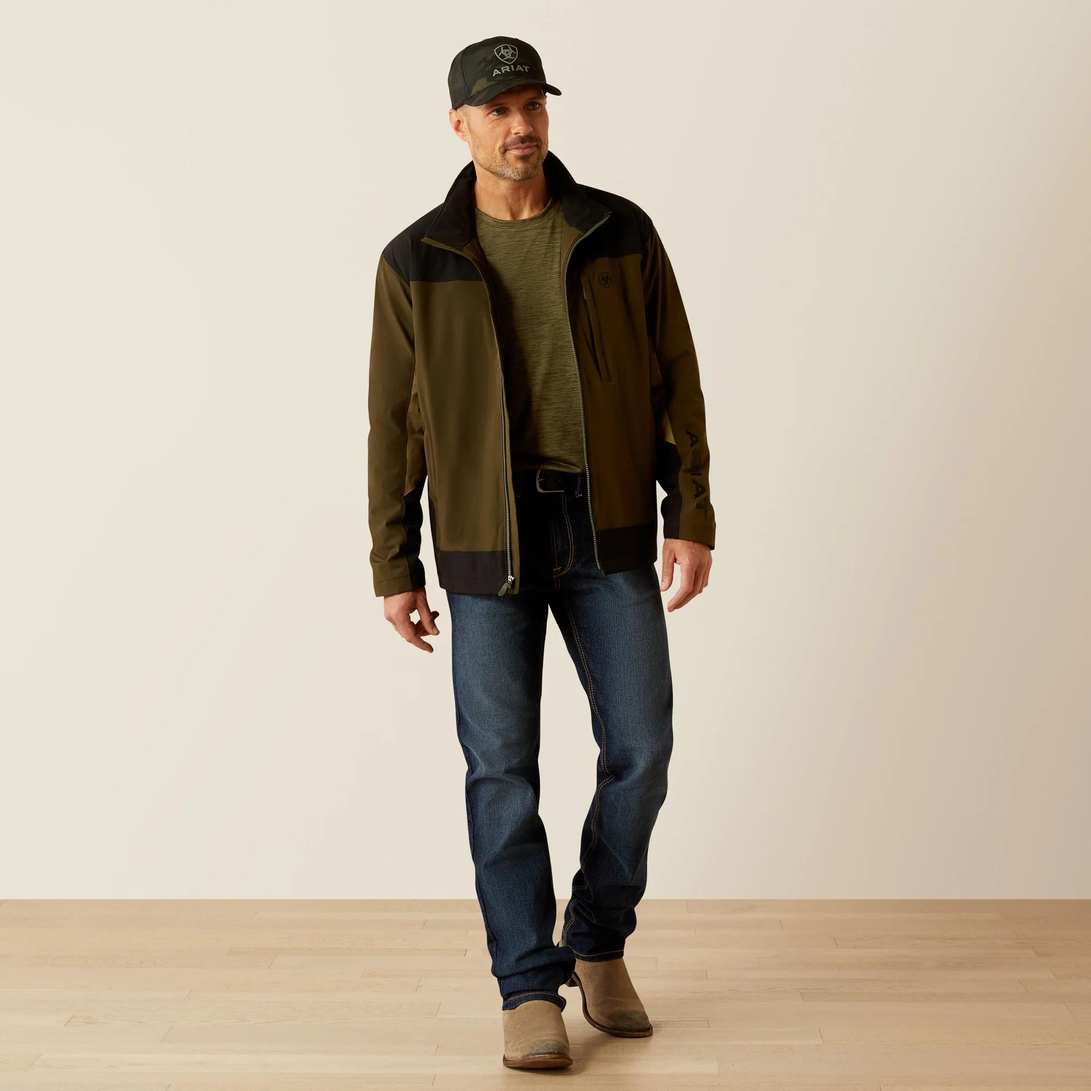jacket: (363, 156, 722, 603)
short sleeve shirt: (465, 202, 604, 483)
trousers: (441, 561, 677, 992)
